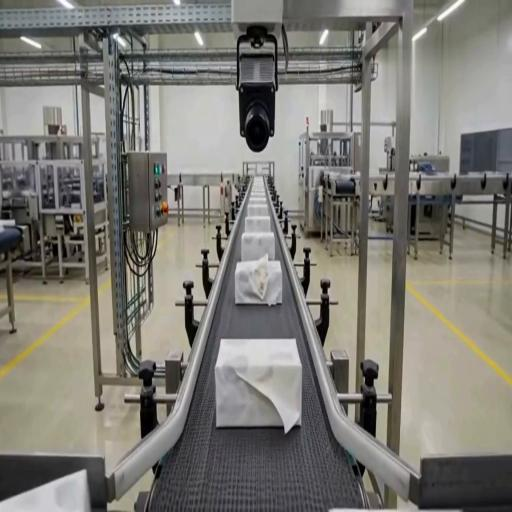defective: (214, 338, 302, 432), (0, 467, 94, 511), (235, 260, 283, 306)
good: (241, 231, 274, 262), (244, 216, 272, 232), (246, 203, 270, 218), (247, 183, 269, 197)
